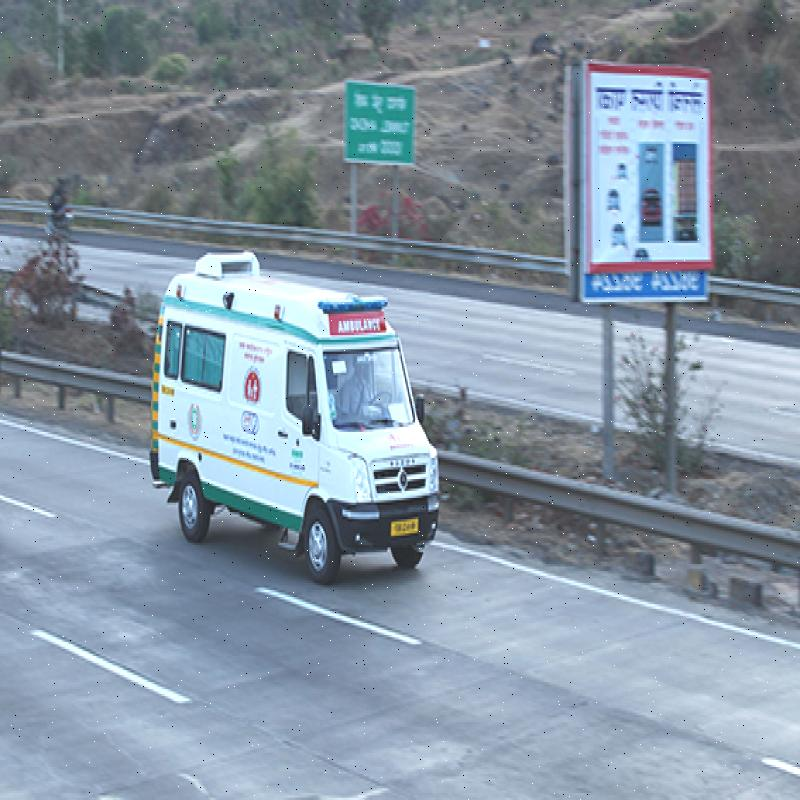ambulance: (157, 269, 442, 560)
